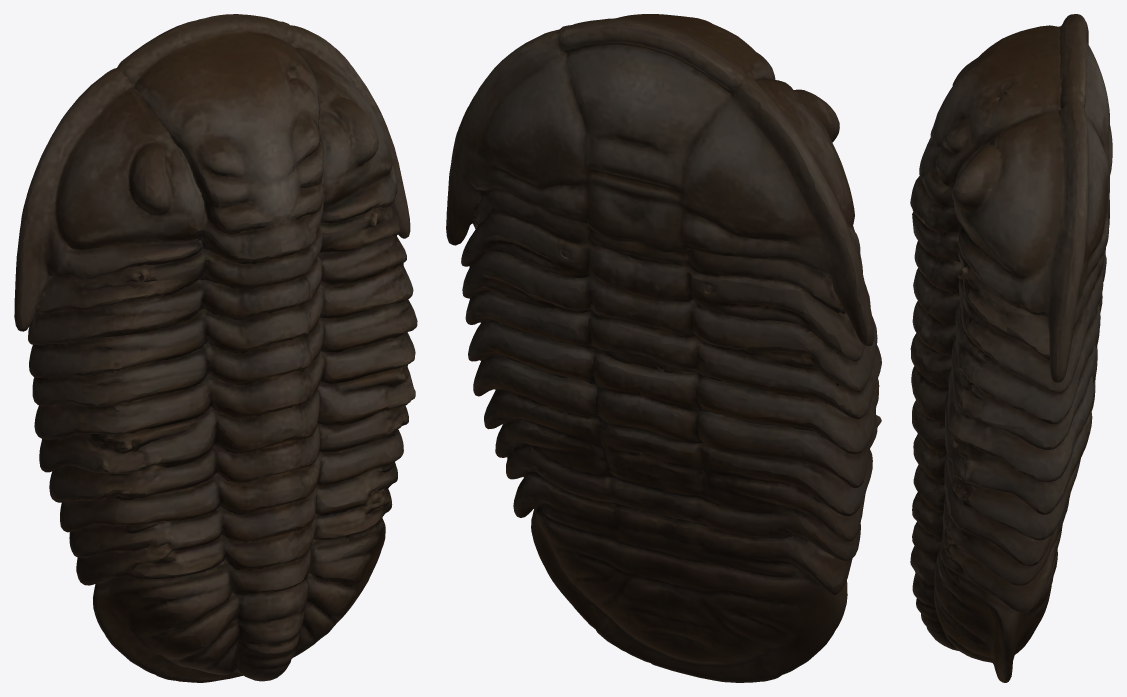
The model's file is trilobite.glb.
3 views of the same model, side by side, from view 1: azimuth 30°, elevation 25°; view 2: azimuth 150°, elevation 25°; view 3: azimuth 270°, elevation 25° (orthographic). The views are drawn at different scales.
Visible parts, largest first — view 1: world; view 2: world; view 3: world.
Boxes of the visible parts, box(x1,y1,x2,y2) form: world: box(14, 14, 417, 682); world: box(446, 14, 881, 682); world: box(910, 14, 1112, 682).
Size of the model in its own units: 0.12 by 0.1827 by 0.0534.
1 material, 1 textured.
